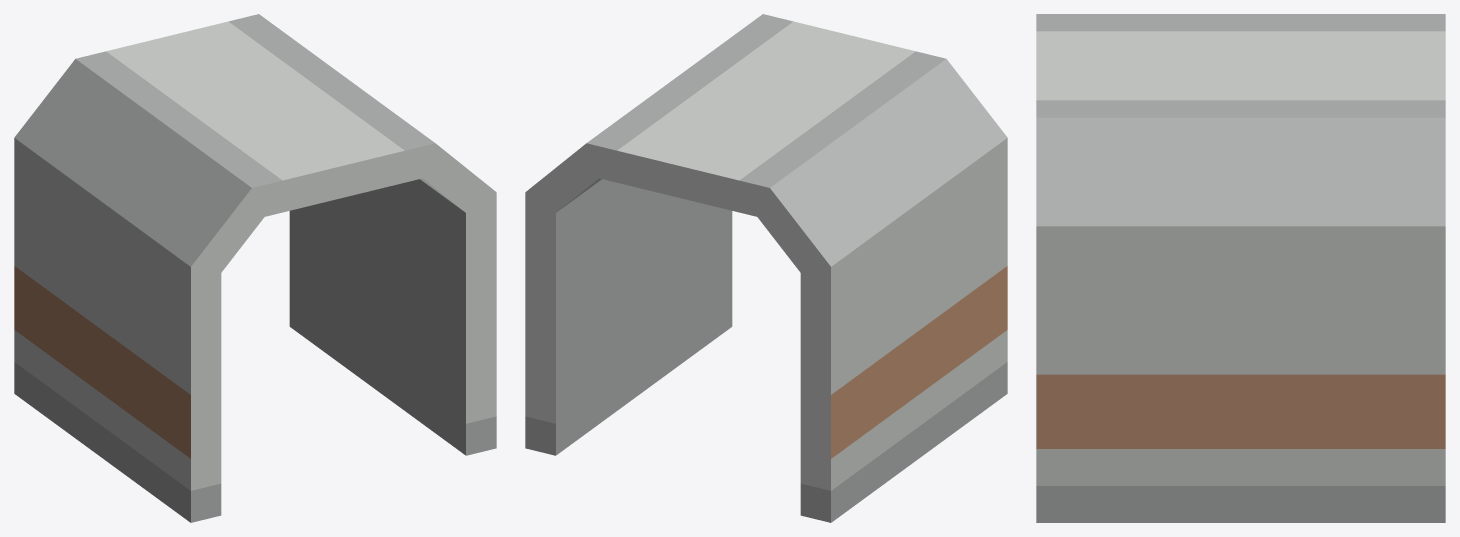
Rendered from srf_module.glb.
3 views of the same model, side by side, from view 1: azimuth 30°, elevation 25°; view 2: azimuth 150°, elevation 25°; view 3: azimuth 270°, elevation 25° (orthographic). The views are drawn at different scales.
Parts seen in each view (by area): view 1: corridor; view 2: corridor; view 3: corridor.
Boxes of the visible parts, x1,y1,x2,y2 form: corridor: (14,14,496,522); corridor: (525,14,1007,522); corridor: (1036,14,1445,522).
Bounding box in the file's own units: 1 × 1 × 1.
